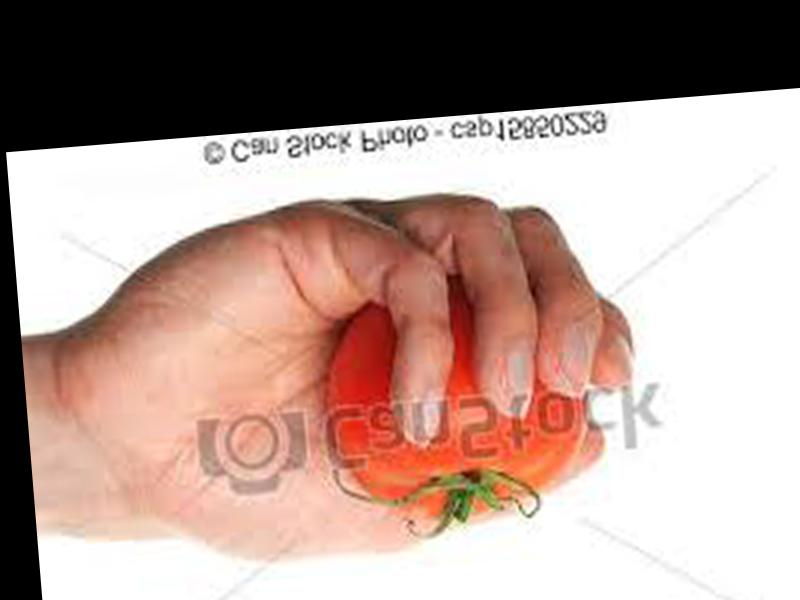Tomato: (324, 274, 594, 525)
